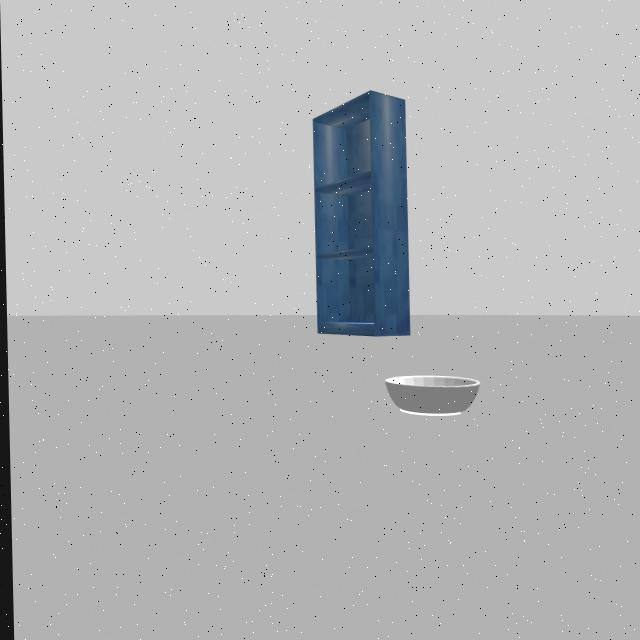bowl: (380, 363, 483, 426)
shelf: (300, 82, 419, 341)
